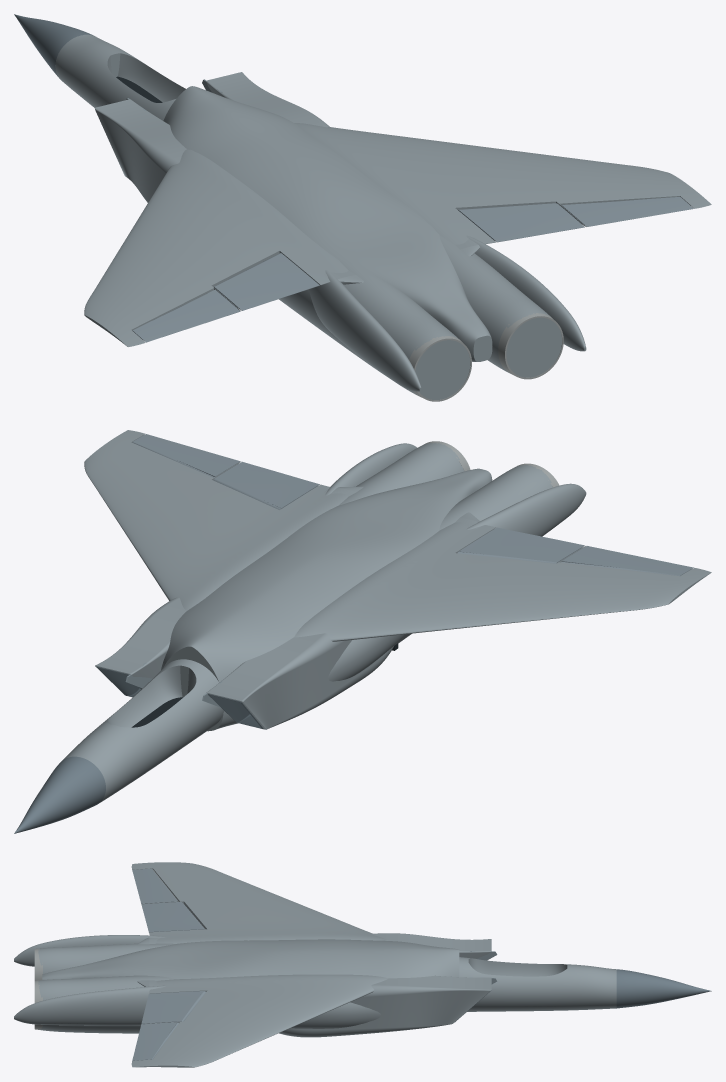
Rendered from wings.glb.
The picture shows the model from 3 angles, top to bottom: view 1: azimuth 30°, elevation 25°; view 2: azimuth 150°, elevation 25°; view 3: azimuth 270°, elevation 25°; orthographic projection. The views are drawn at different scales.
Visible parts, largest first — view 1: airframe_wings (×4); view 2: airframe_wings (×4); view 3: airframe_wings (×4).
Part boxes in pixels (x1=…): airframe_wings (×4): x1=14, y1=14, x2=711, y2=401; airframe_wings (×4): x1=14, y1=430, x2=711, y2=833; airframe_wings (×4): x1=14, y1=862, x2=711, y2=1067.
Size of the model in its own units: 13.05 by 1.97 by 18.92.
